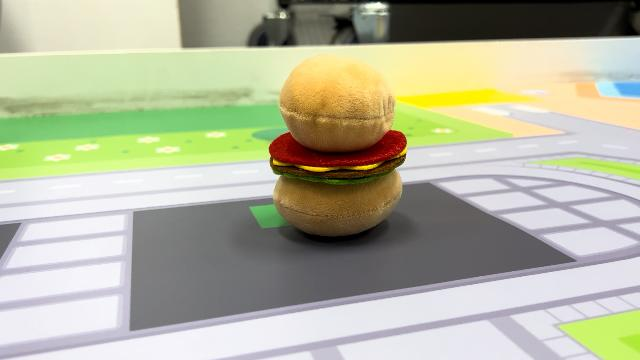burger: (265, 51, 411, 239)
